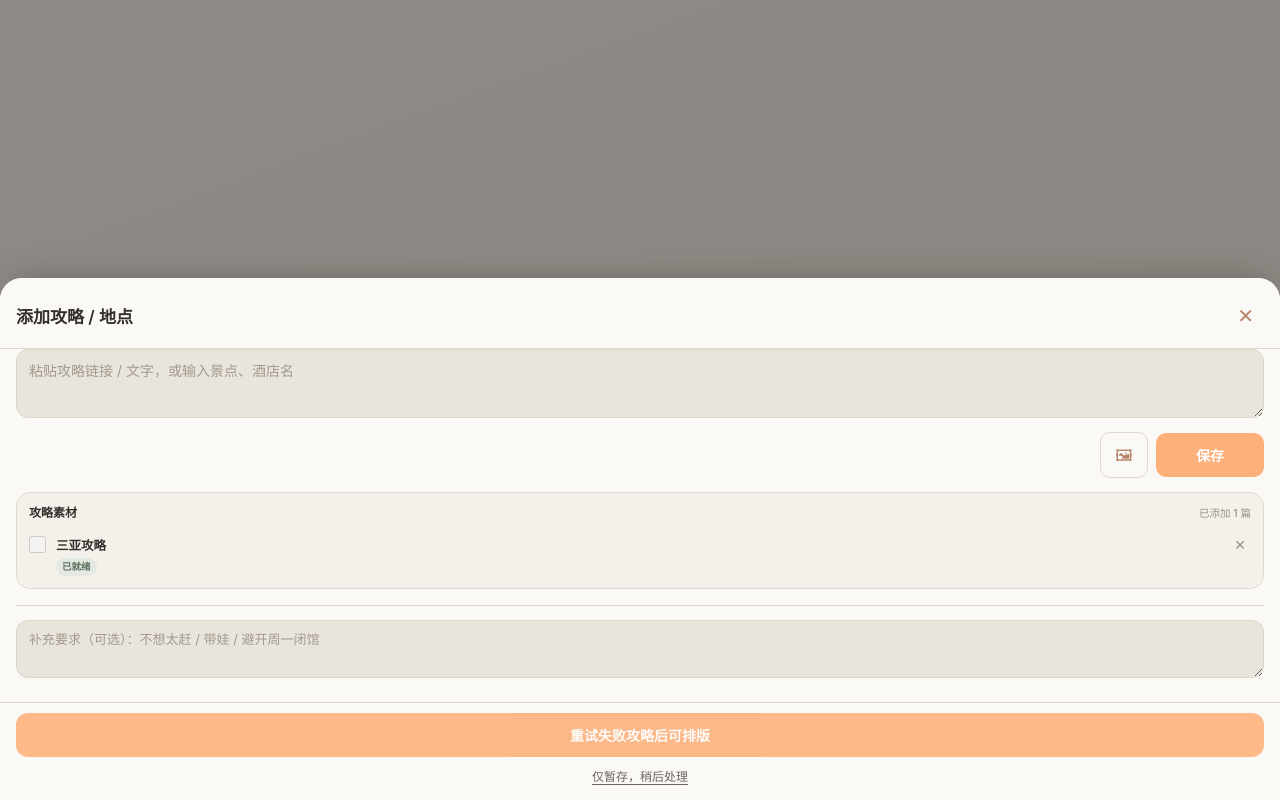
Test case: NoteInput 来源删除二次确认端到端（任务 188） › 取消确认：不调用删除 API，来源与列表状态不变
The width and height of the screenshot is (1280, 800).
Click the button named "移除该攻略": click(1240, 545) [1229,535,1251,555]
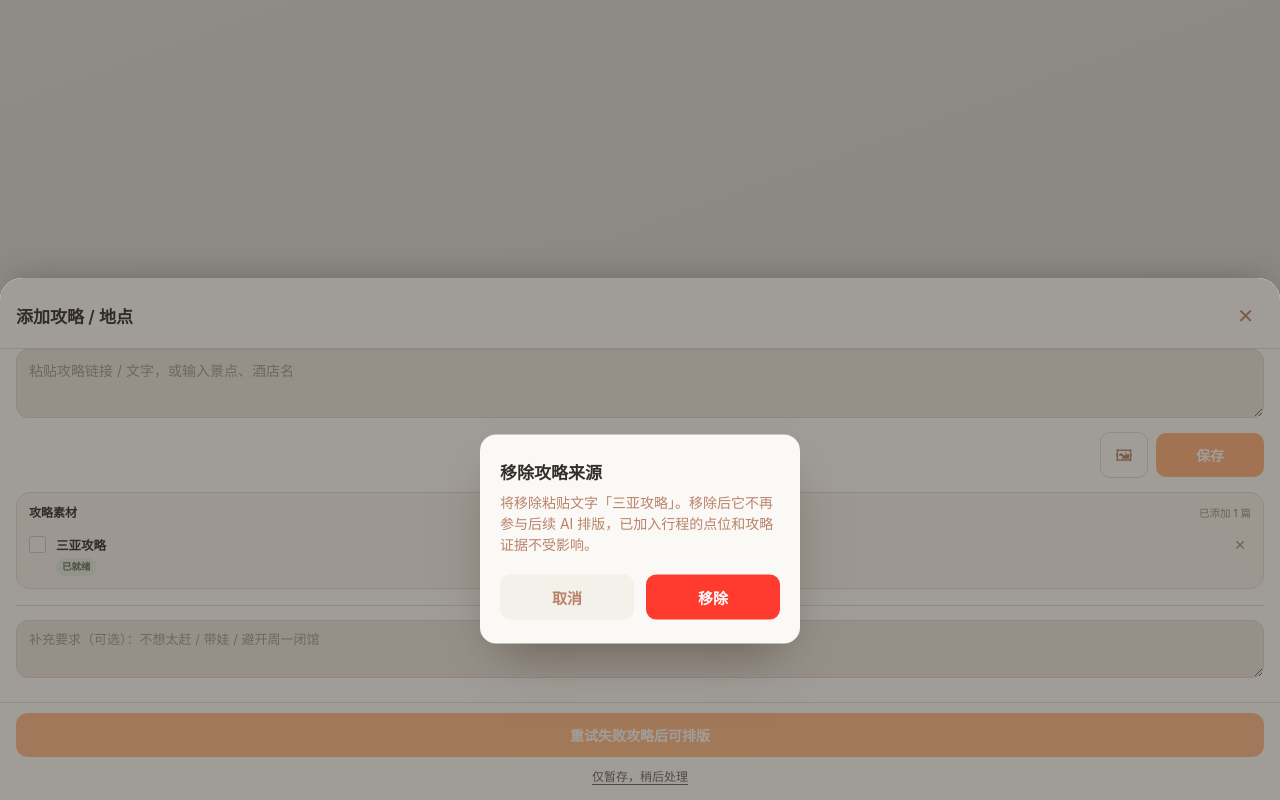
Click the button "取消": click(567, 597) [500,574,634,619]
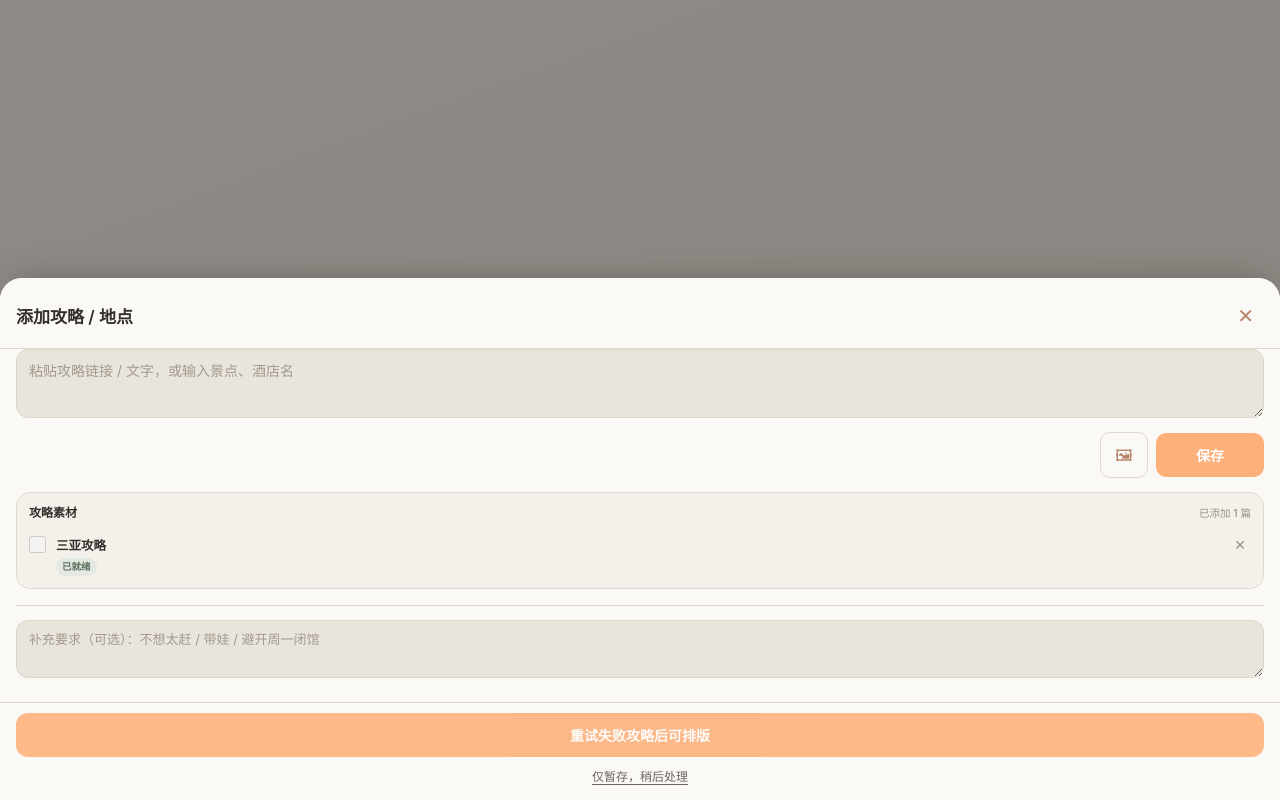
Expected: the text "已添加 1 篇" is shown, [1199,505,1251,520]
Now the heading "移除攻略来源" is gone
